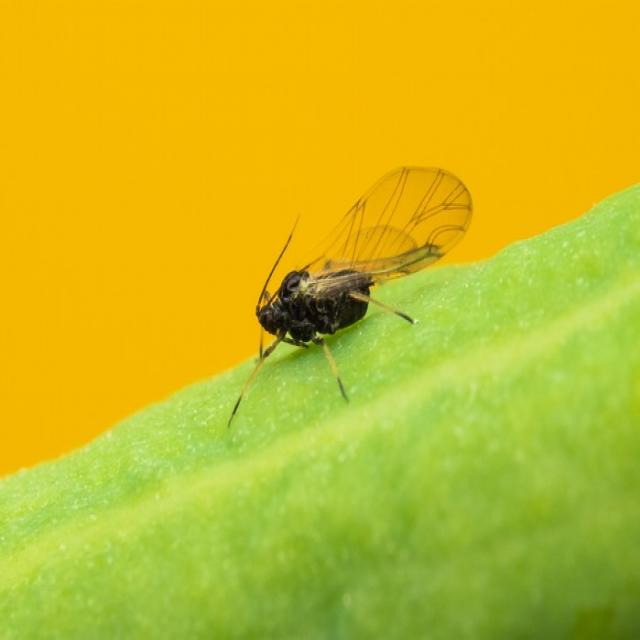Aphid-Grown-have wings-: (222, 158, 474, 402)
